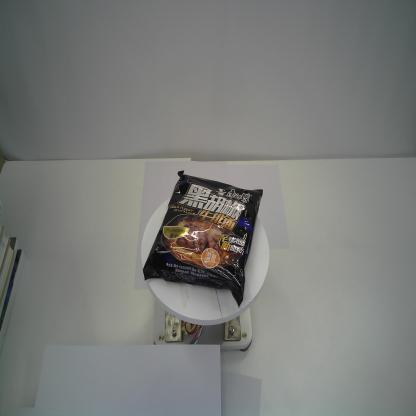Instant Noodles: (142, 168, 264, 306)
